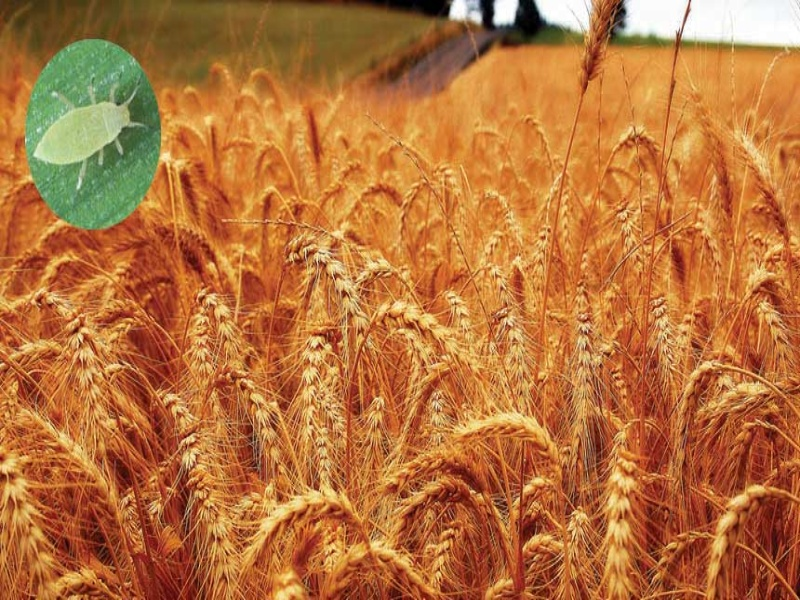wheat: (297, 229, 514, 401), (643, 277, 798, 493), (214, 332, 369, 484), (6, 269, 143, 432), (138, 385, 247, 582), (1, 445, 95, 597), (617, 195, 695, 370), (385, 471, 491, 595), (699, 470, 800, 596), (591, 429, 660, 599), (455, 402, 586, 478), (167, 278, 259, 371), (559, 281, 618, 421), (563, 1, 629, 106), (601, 117, 678, 173)
